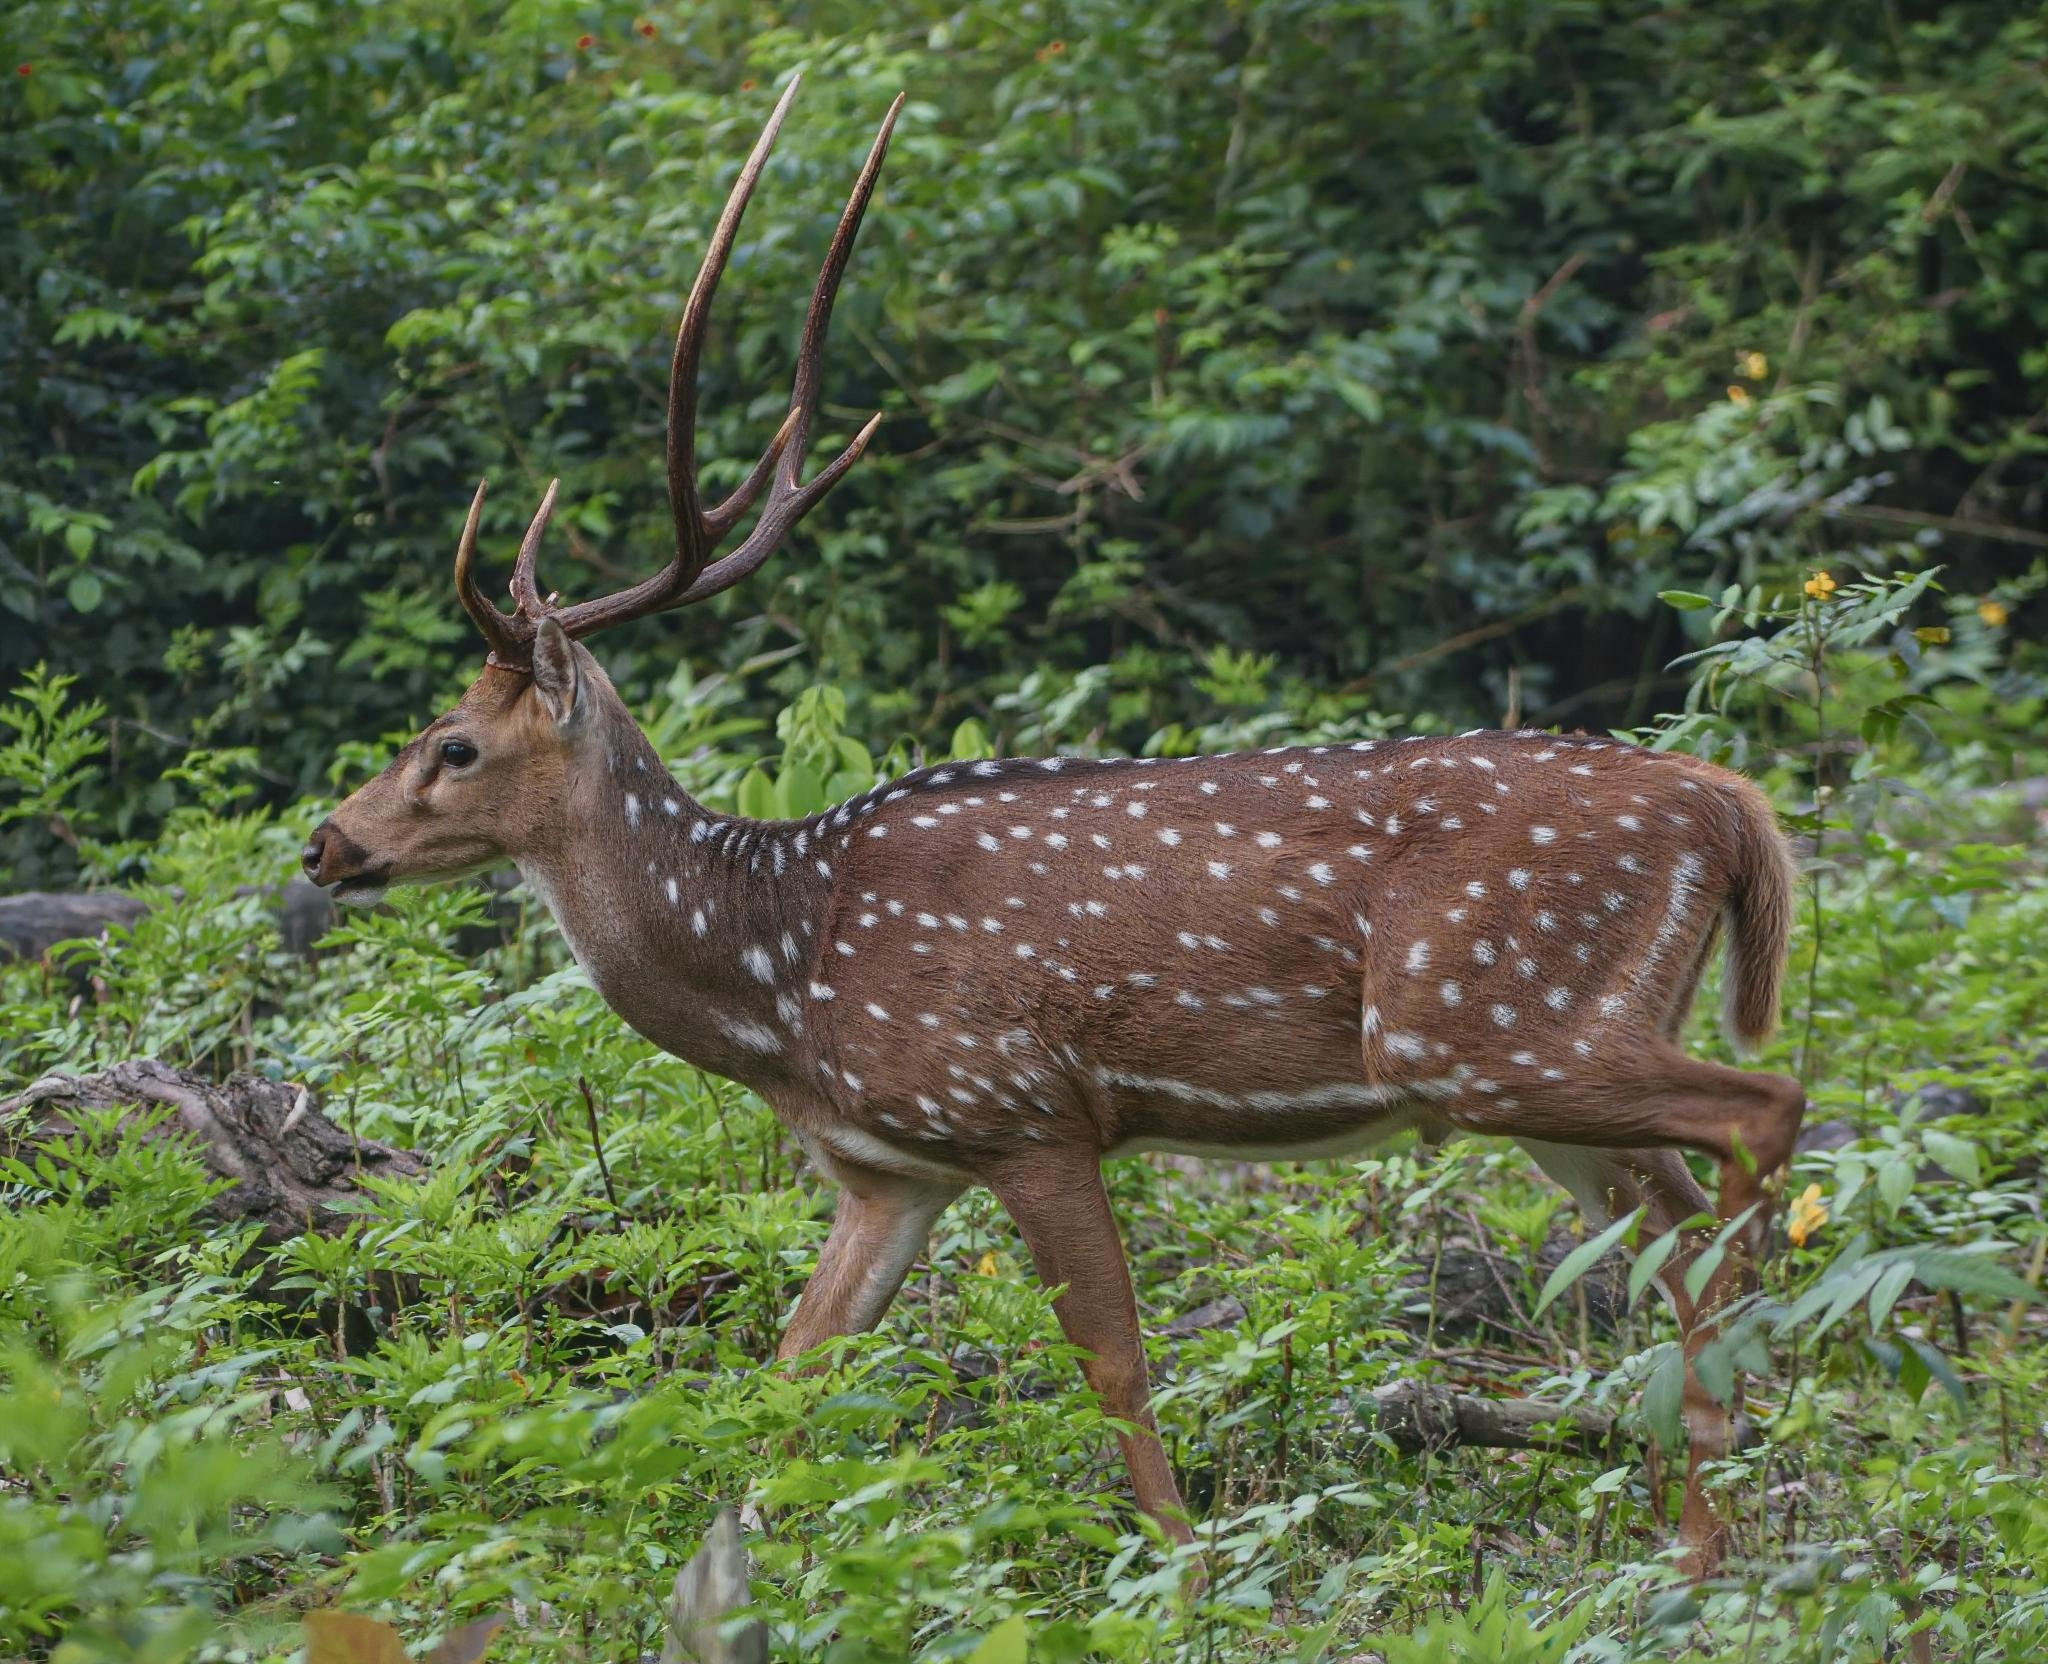Deer: (302, 76, 1803, 1537)
